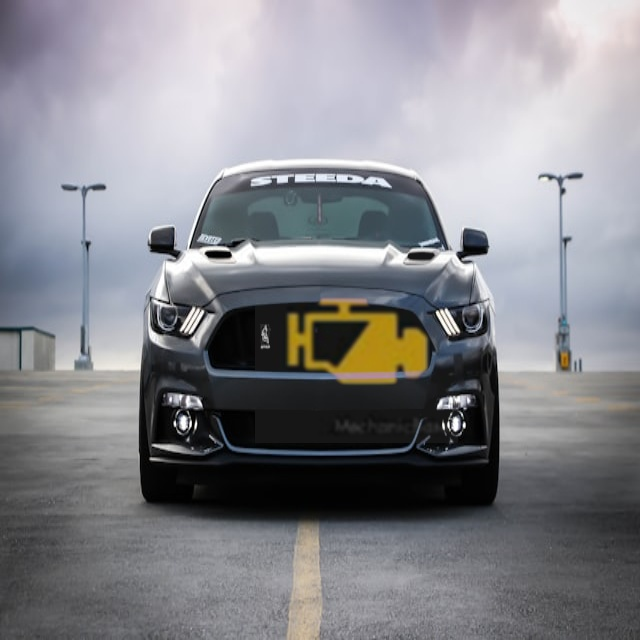symbol: (255, 240, 458, 443)
